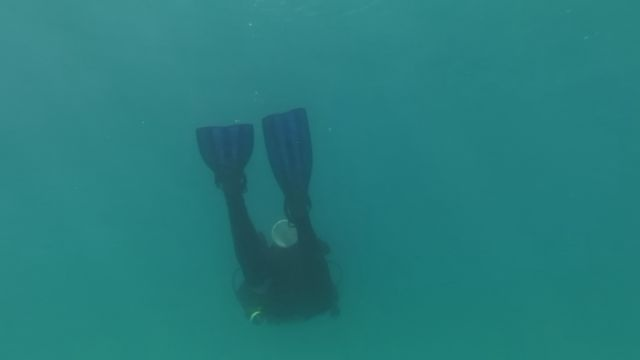Diver: (183, 107, 348, 321)
